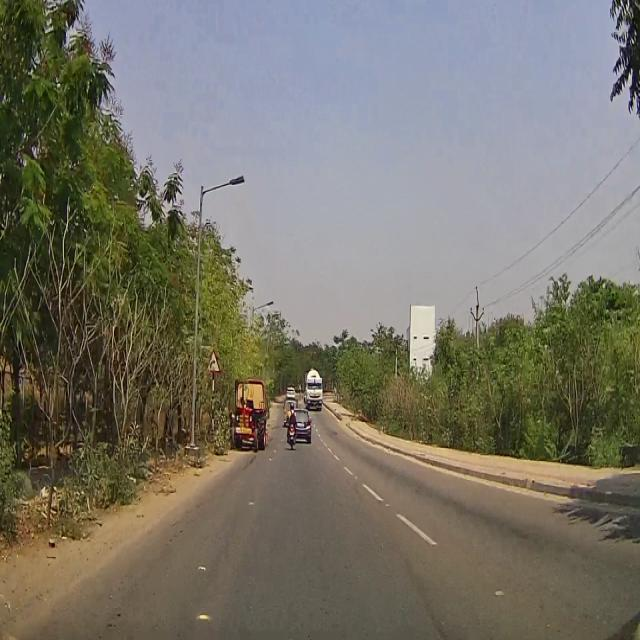right-hand-curve: (206, 350, 219, 371)
